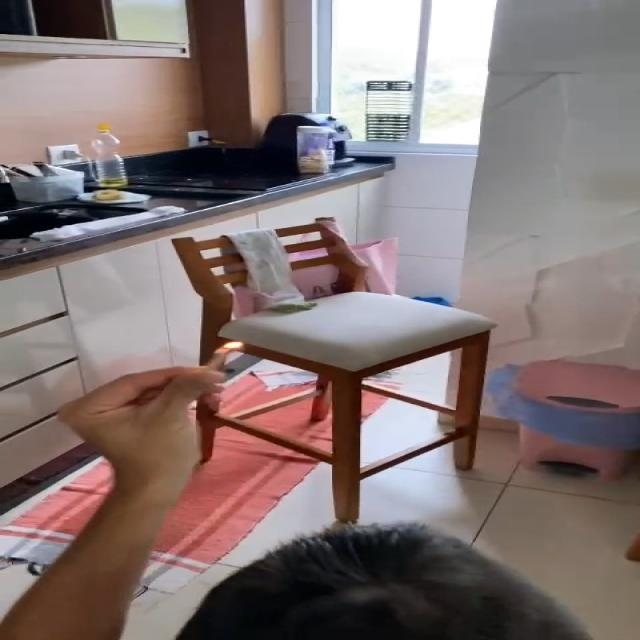fogo-ypXI: (215, 340, 246, 353)
